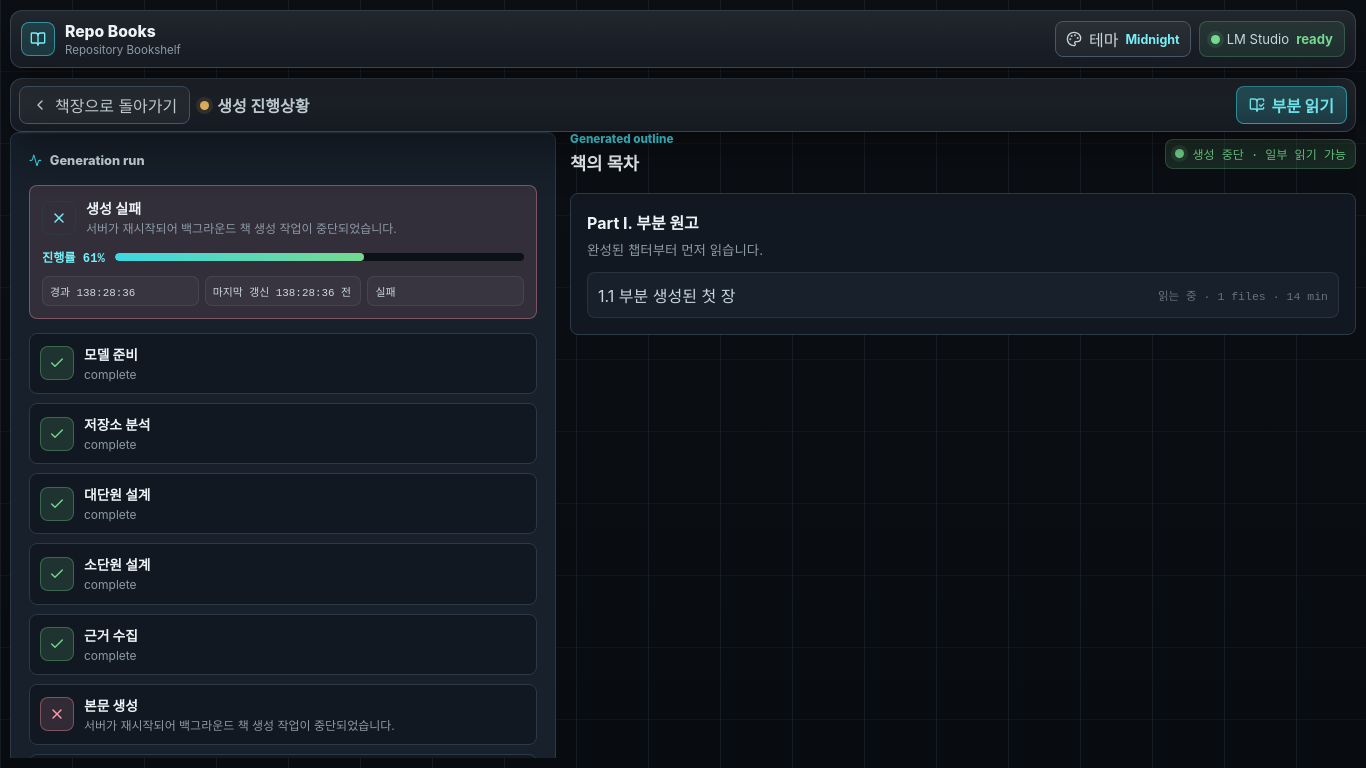
Repo Books web app › allows reading partial chapters from an interrupted generation run
Expected: the text "생성 실패" is shown, [86,200,141,217]
Expected: the text "생성 중단 · 일부 읽기 가능" is shown, [1165,138,1356,168]
Click the button "부분 읽기" at (1291, 105), box [1236,86,1347,124]
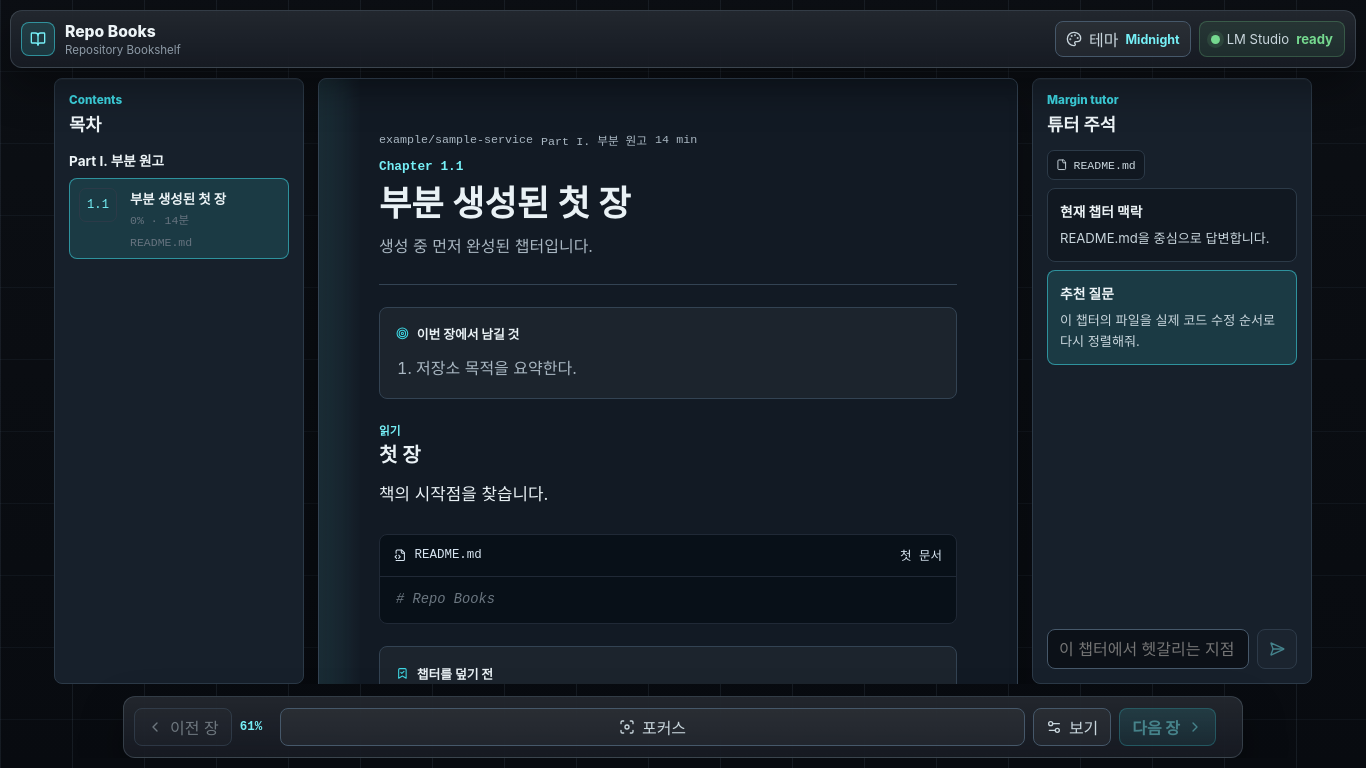
Expected: the heading "부분 생성된 첫 장" is shown, [379,182,631,224]
